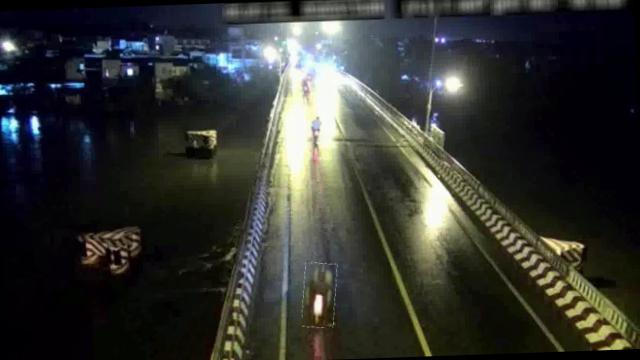Bike: (301, 263, 337, 329), (310, 116, 323, 144), (298, 78, 310, 94)
